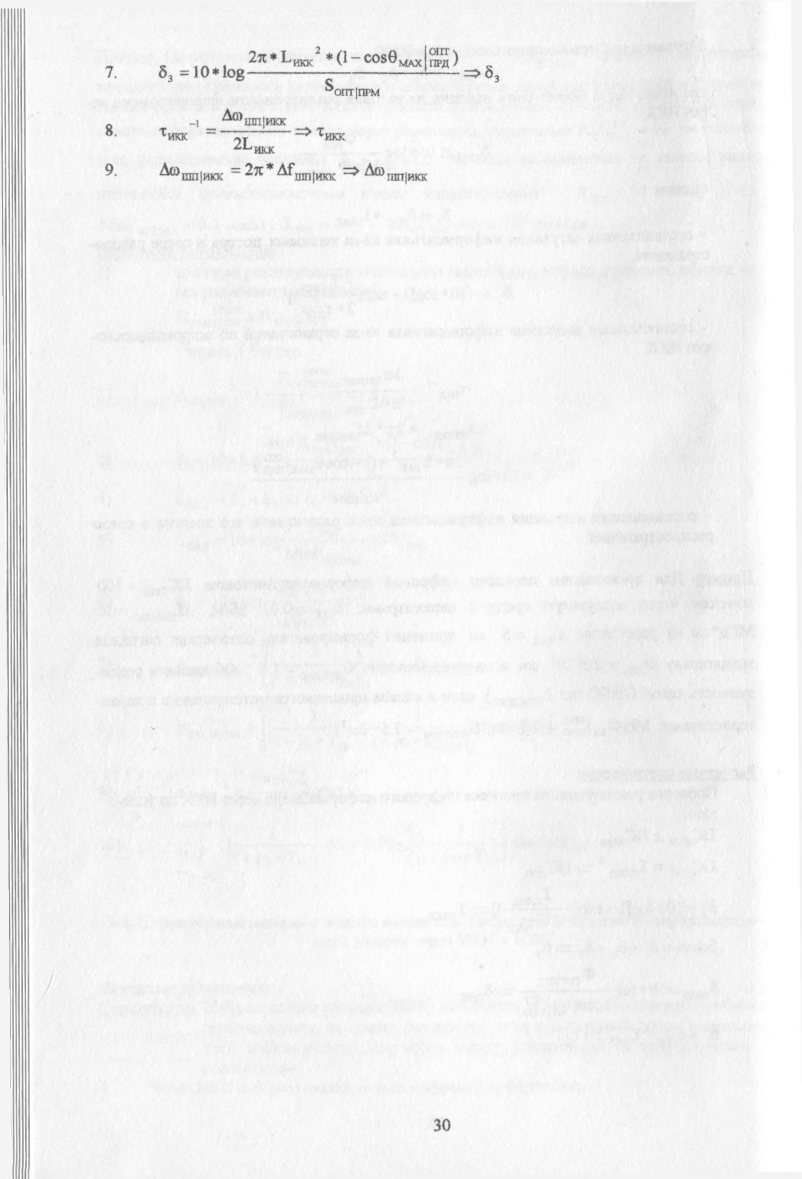L.икк: (277, 41, 314, 69), (243, 134, 274, 155)
S.опт.прм: (320, 78, 382, 100)
Δf.шп.икк: (280, 161, 335, 182)
Δω.шп.икк: (159, 159, 227, 183), (221, 102, 288, 125)
δ.3: (153, 57, 174, 87)
θ.max.опт.прд: (388, 40, 449, 67)
τ.икк: (157, 119, 191, 145)
